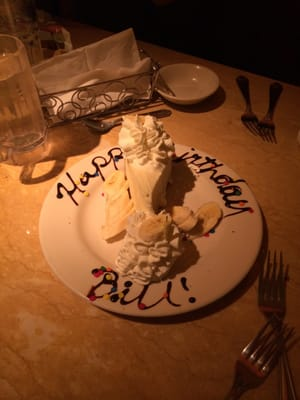burger: (223, 247, 290, 400), (240, 246, 289, 383), (237, 76, 262, 142), (258, 83, 282, 144)
pizza: (0, 35, 48, 164), (0, 0, 44, 65)
sandwich: (82, 102, 172, 133), (236, 76, 262, 141)
